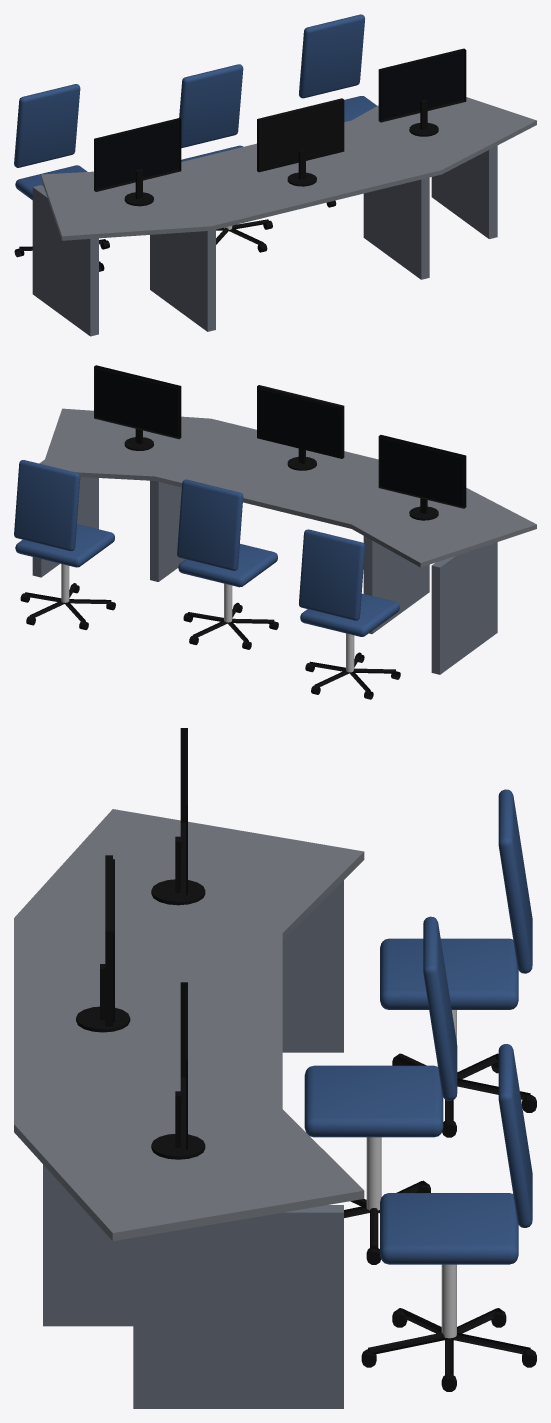
File: police.control.desk.glb
The picture shows the model from 3 angles, top to bottom: view 1: azimuth 30°, elevation 25°; view 2: azimuth 150°, elevation 25°; view 3: azimuth 270°, elevation 25°; orthographic projection. The views are drawn at different scales.
Parts seen in each view (by area): view 1: main__laminate_grey, main__steel_painted, main__fabric_blue, main__plastic_black, main__screen; view 2: main__laminate_grey, main__fabric_blue, main__steel_painted, main__screen, main__plastic_black, main__steel_stainless; view 3: main__laminate_grey, main__steel_painted, main__fabric_blue, main__plastic_black, main__steel_stainless, main__screen.
Boxes of the visible parts, bbox=[...] form: main__laminate_grey: bbox=[41, 97, 536, 240]; main__steel_painted: bbox=[32, 145, 497, 336]; main__fabric_blue: bbox=[14, 14, 376, 199]; main__plastic_black: bbox=[14, 48, 466, 271]; main__screen: bbox=[95, 50, 463, 188]; main__laminate_grey: bbox=[43, 408, 536, 567]; main__fabric_blue: bbox=[14, 460, 399, 636]; main__steel_painted: bbox=[32, 459, 497, 674]; main__screen: bbox=[95, 368, 463, 506]; main__plastic_black: bbox=[20, 365, 466, 699]; main__steel_stainless: bbox=[61, 564, 354, 672]; main__laminate_grey: bbox=[14, 809, 364, 1241]; main__steel_painted: bbox=[43, 880, 343, 1408]; main__fabric_blue: bbox=[304, 789, 532, 1264]; main__plastic_black: bbox=[76, 728, 536, 1391]; main__steel_stainless: bbox=[366, 1010, 456, 1338]; main__screen: bbox=[113, 732, 187, 1149].
Bounding box in the file's own units: 3.33 × 1.22 × 1.74.
